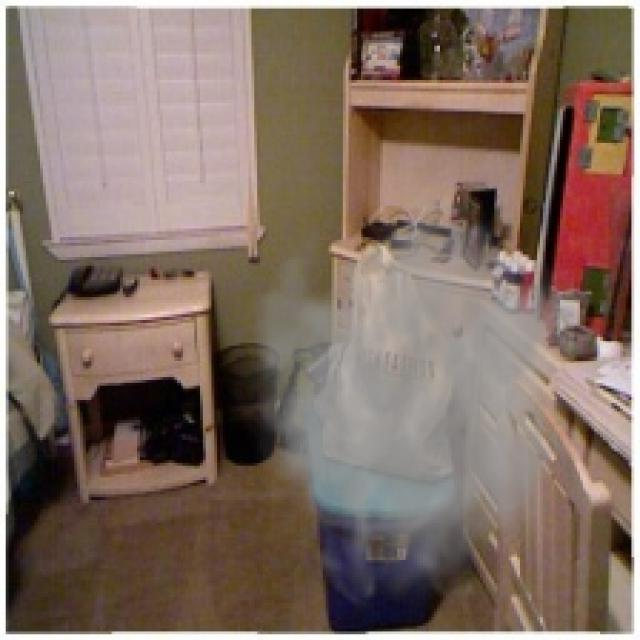smoke: (223, 189, 574, 614)
